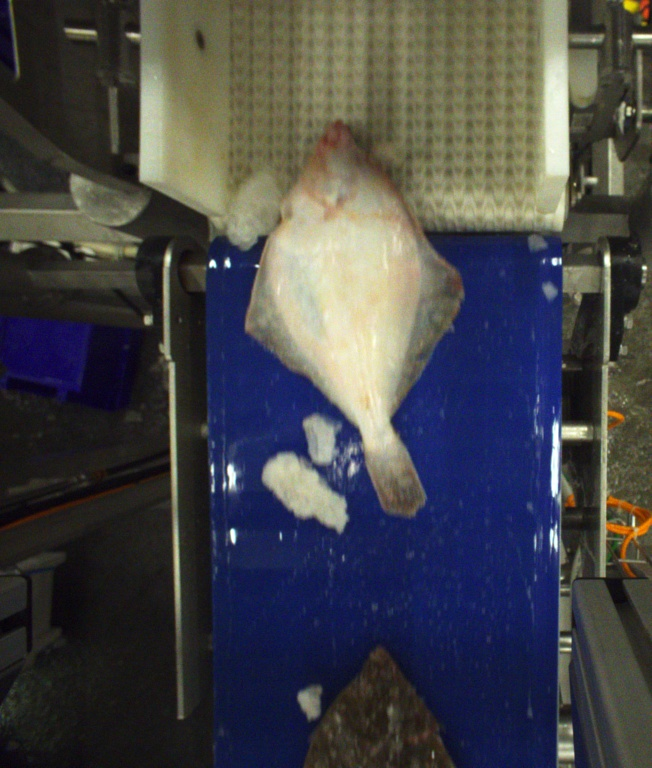PLE: (245, 120, 463, 517)
